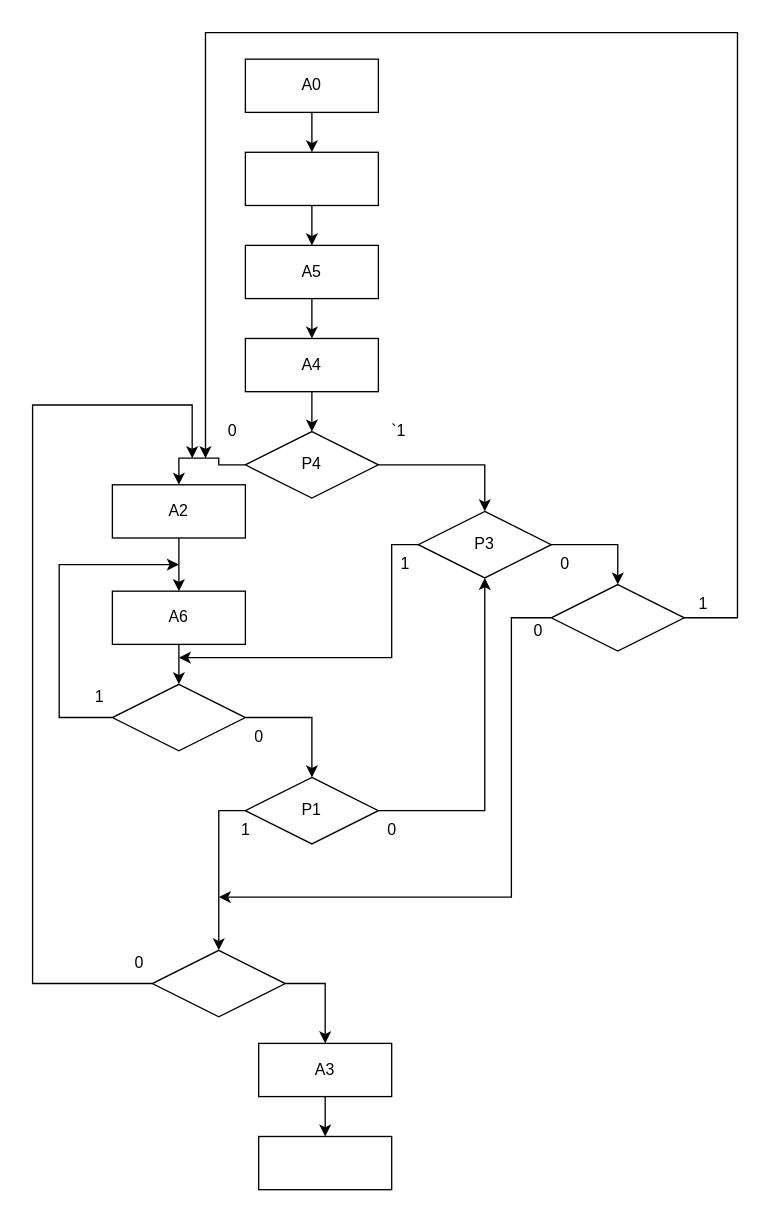
This 771x1213 diagram has some shape labels left out. Here are the shapes that lost their labels. From the top down, the centre of each, then its label:
At (311,178): "A1".
At (617,617): "P2".
At (178,717): "P5".
At (218,983): "P6".
At (324,1162): "Ak".
